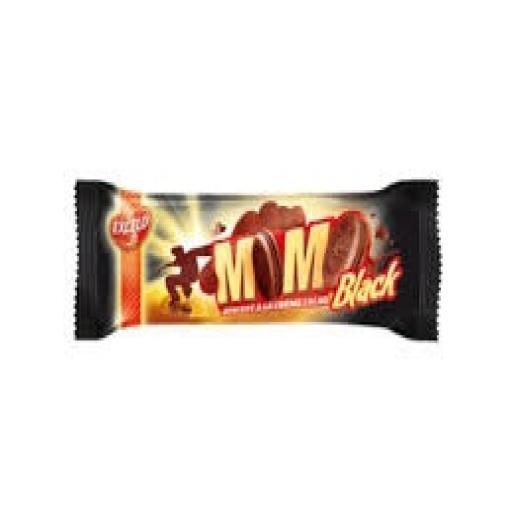MOMO: (66, 138, 464, 364)
